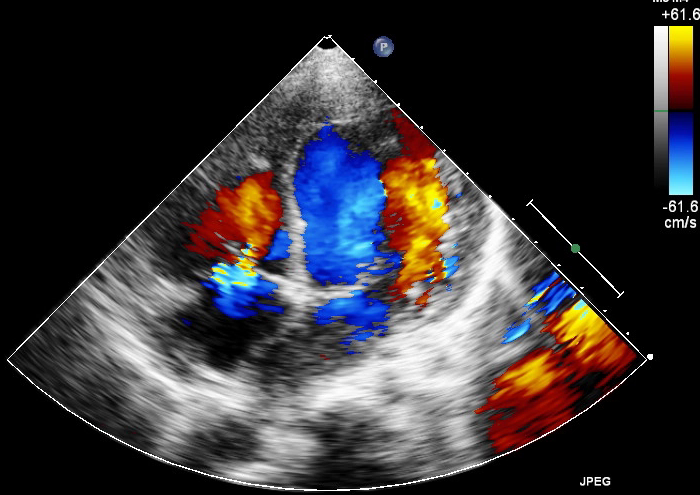TR: (170, 257, 285, 317)
